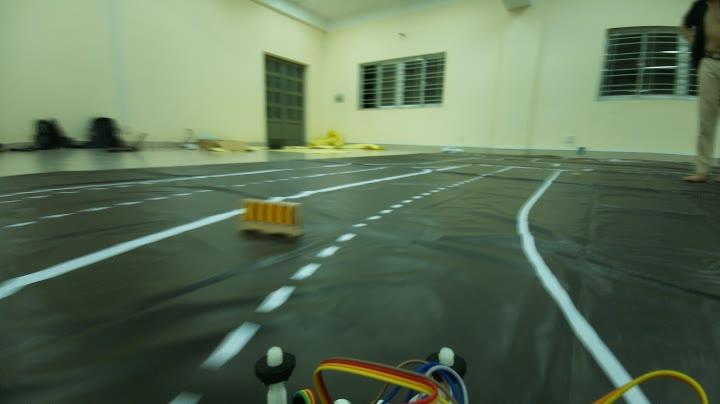roadblock: (235, 190, 309, 240)
